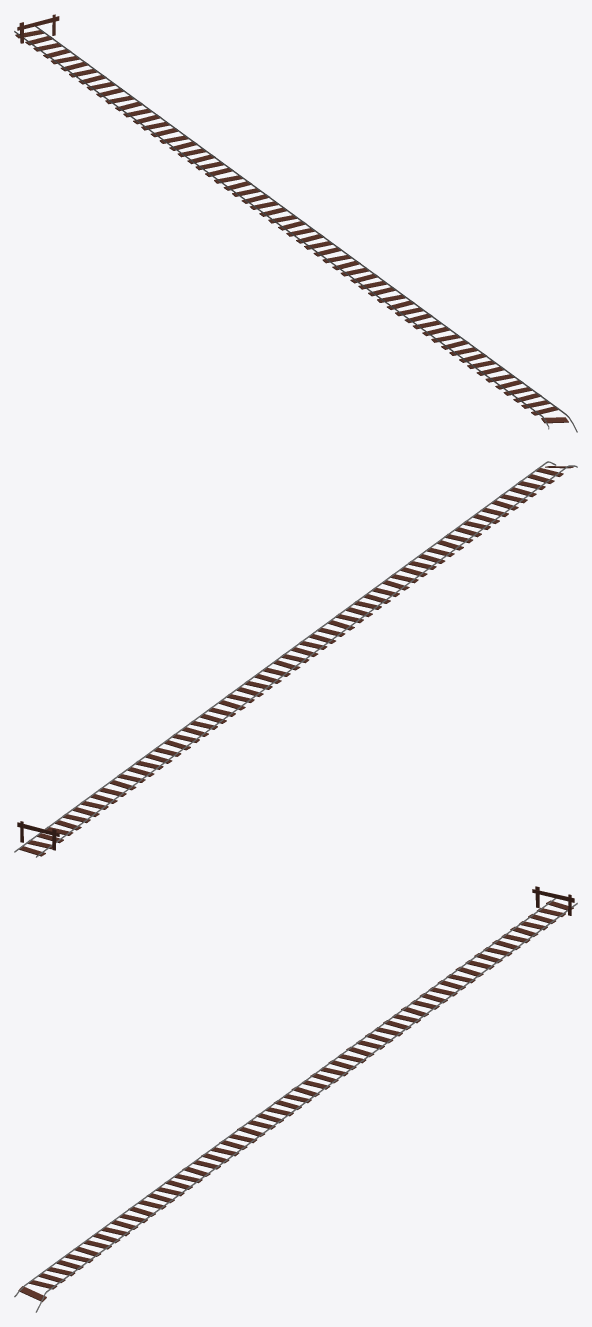
File: rail track.fbx
3 renders of one model, top to bottom at view 1: azimuth 30°, elevation 25°; view 2: azimuth 150°, elevation 25°; view 3: azimuth 330°, elevation 25°, orthographic.
Visible parts, largest first — view 1: Line015, Line014; view 2: Line015, Line014; view 3: Line015, Line014.
Boxes of the visible parts, <box> form: Line015: <box>35,26,577,432</box>; Line014: <box>14,31,549,429</box>; Line015: <box>14,461,556,852</box>; Line014: <box>36,465,577,857</box>; Line015: <box>35,902,577,1312</box>; Line014: <box>14,898,555,1297</box>.
Bounding box in the file's own units: 428 × 302 × 9562.
